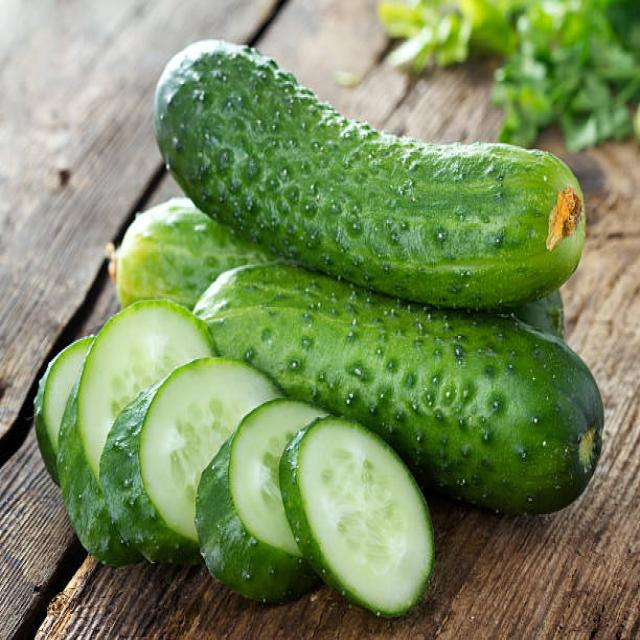cucumber: (153, 37, 585, 303), (192, 265, 608, 514)
